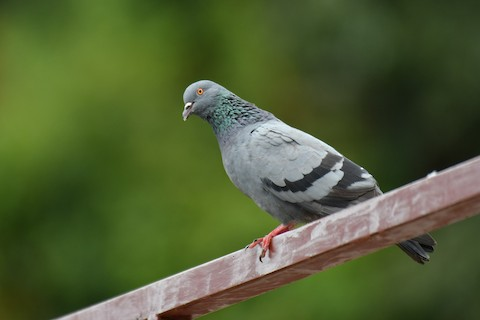pigeon: (179, 79, 442, 269)
